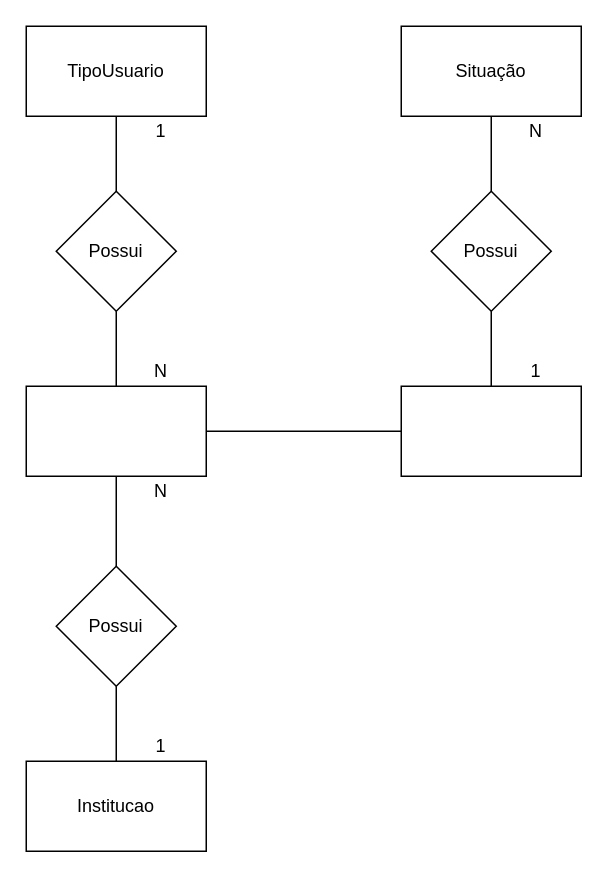
The diagram is 608 pixels wide and 878 high, and some of its shapes have lost their labels. The shapes that lost their labels are listed below. From the top down, each one's box as (x1, y1, x2, y2) in pixels, then its label:
(25, 385, 206, 476): Usuario
(400, 385, 581, 476): Consulta
